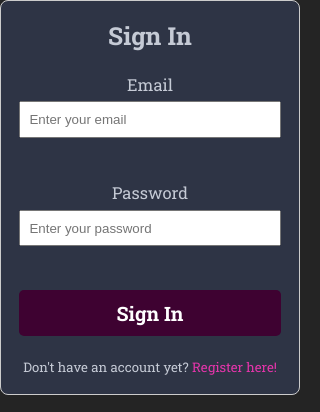
Test: SignIn Component › displays validation errors when need 1 uppercase letter
The image size is (320, 412).
Type "short" into the password field labelled "Password" at x=150, y=228, box [19,210,281,246]
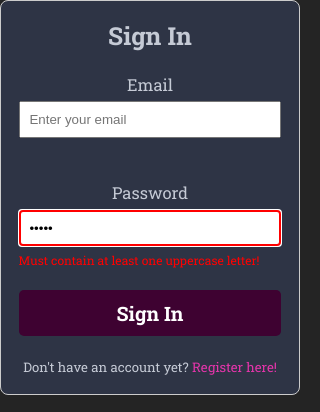
Check: the text "Must contain at least one uppercase letter!" is shown, box [19,252,259,268]
